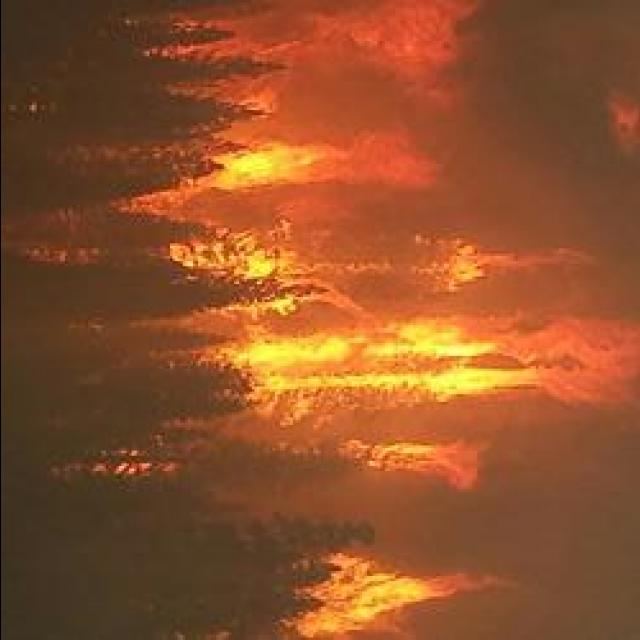fire: (232, 322, 520, 400), (290, 550, 458, 640), (208, 137, 342, 191), (175, 228, 303, 282)
smoke: (322, 4, 474, 82), (514, 316, 634, 376)
